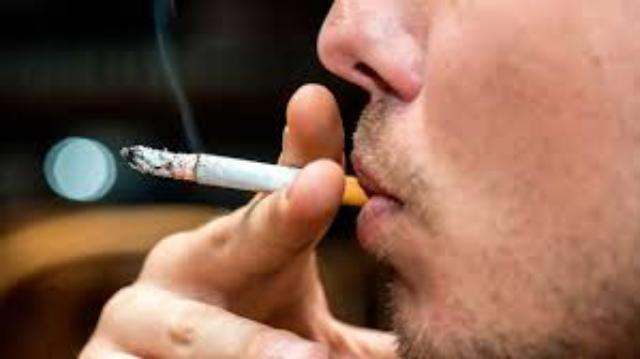Smoking: (118, 144, 396, 218)
